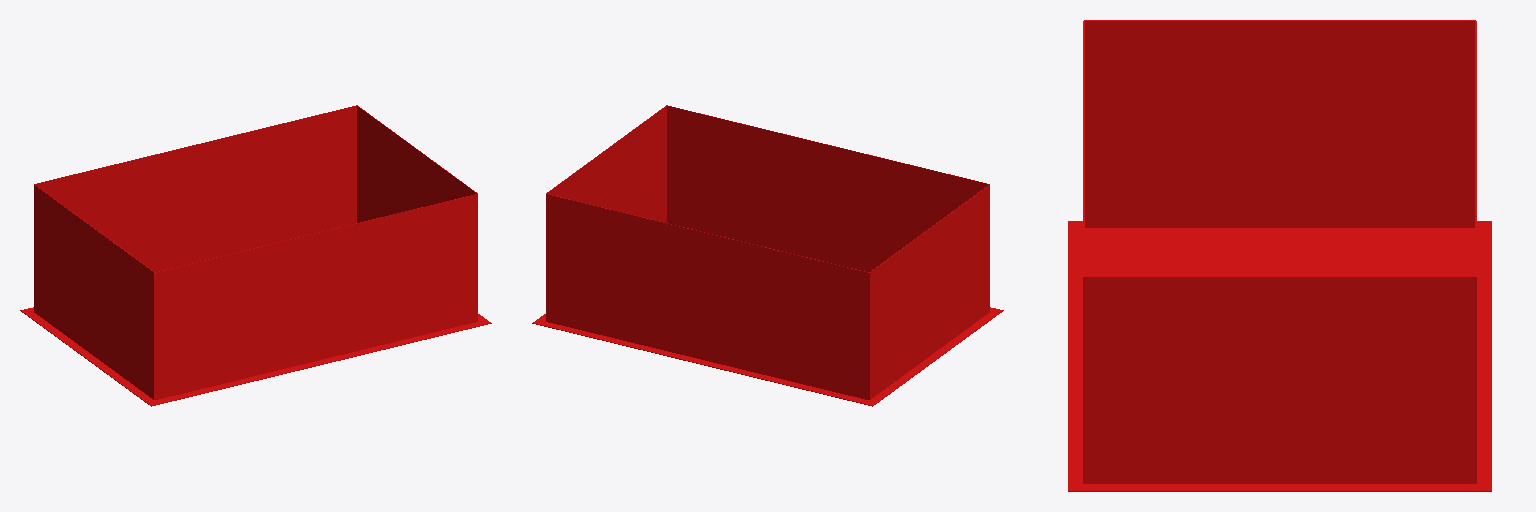
robot.urdf — big_box:
<robot name="big_box">
  <material name="red">
    <color rgba=".9 .1 .1 1"/>
  </material>
  <link name="big_box_root"/>
  <joint name="big_box_fixed_joint" type="fixed">
    <child link="big_box_link"/>
    <parent link="big_box_root"/>
    <origin xyz="0.25 0.0 0.4"/>
  </joint>
  <link name="big_box_link">
    <inertial>
      <origin xyz="0.0 0.0 0.0" rpy="0 0 0" />
      <mass value="0.6"/>
      <inertia ixx="0.001" ixy="0.0" ixz="0.0"
	       iyy="0.001" iyz="0.0"
	       izz="0.001" />
    </inertial>
    <visual>
      <origin xyz="0 0 0.0155" rpy="0 0 0" />
      <geometry>
        <box size="0.597 0.397 0.001"/>
      </geometry>
      <material name="red"/>
    </visual>
    <collision>
      <origin xyz="0 0 0.0155" rpy="0 0 0" />
      <geometry>
        <box size="0.597 0.397 0.001"/>
      </geometry>
    </collision>
    <visual>
      <origin xyz="0 0.1835 0.12"/>
      <geometry>
        <box size="0.567 0.001 0.22"/>
      </geometry>
      <material name="red"/>
    </visual>
    <collision>
      <origin xyz="0 0.1835 0.12"/>
      <geometry>
        <box size="0.567 0.001 0.22"/>
      </geometry>
    </collision>
    <visual>
      <origin xyz="0 -0.1835 0.12"/>
      <geometry>
        <box size="0.567 0.001 0.22"/>
      </geometry>
      <material name="red"/>
    </visual>
    <collision>
      <origin xyz="0 -0.1835 0.12"/>
      <geometry>
        <box size="0.567 0.001 0.22"/>
      </geometry>
    </collision>
    <visual>
      <origin xyz="0.2835 0 0.12"/>
      <geometry>
        <box size="0.001 0.367 0.22"/>
      </geometry>
      <material name="red"/>
    </visual>
    <collision>
      <origin xyz="0.2835 0 0.12"/>
      <geometry>
        <box size="0.001 0.367 0.22"/>
      </geometry>
    </collision>
    <visual>
      <origin xyz="-0.2835 0 0.12"/>
      <geometry>
        <box size="0.001 0.367 0.22"/>
      </geometry>
      <material name="red"/>
    </visual>
    <collision>
      <origin xyz="-0.2835 0 0.12"/>
      <geometry>
        <box size="0.001 0.367 0.22"/>
      </geometry>
    </collision>
  </link>
</robot>

--- Render facts (derived) ---
Views: 3 orthographic renders of the robot side by side, from view 1: azimuth 30°, elevation 25°; view 2: azimuth 150°, elevation 25°; view 3: azimuth 270°, elevation 25°.
Robot: big_box — 2 links, 1 joints (1 fixed); root link big_box_root; default pose: every joint at zero.
Visible links, largest first — view 1: big_box_link; view 2: big_box_link; view 3: big_box_link.
Link boxes in pixels (x1,y1,x2,y2): big_box_link: (20, 105, 491, 406); big_box_link: (532, 105, 1003, 406); big_box_link: (1068, 20, 1491, 491).
Bounding box of the posed robot: 0.597 × 0.397 × 0.22 m (x, y, z).
Geometry: primitives only (box / cylinder / sphere), no mesh files.
